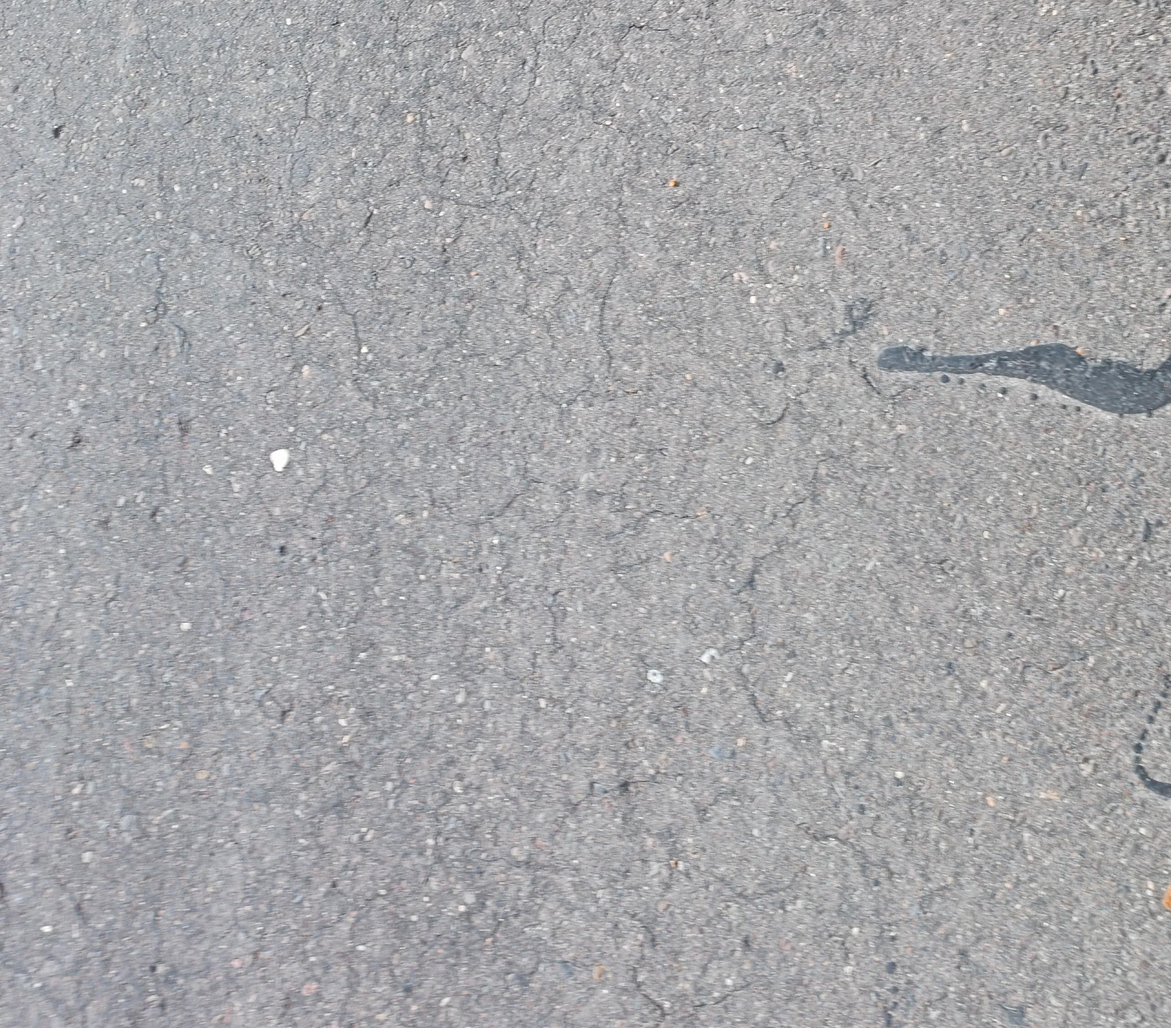PIEL DE COCODRILO: (19, 0, 896, 1010)
